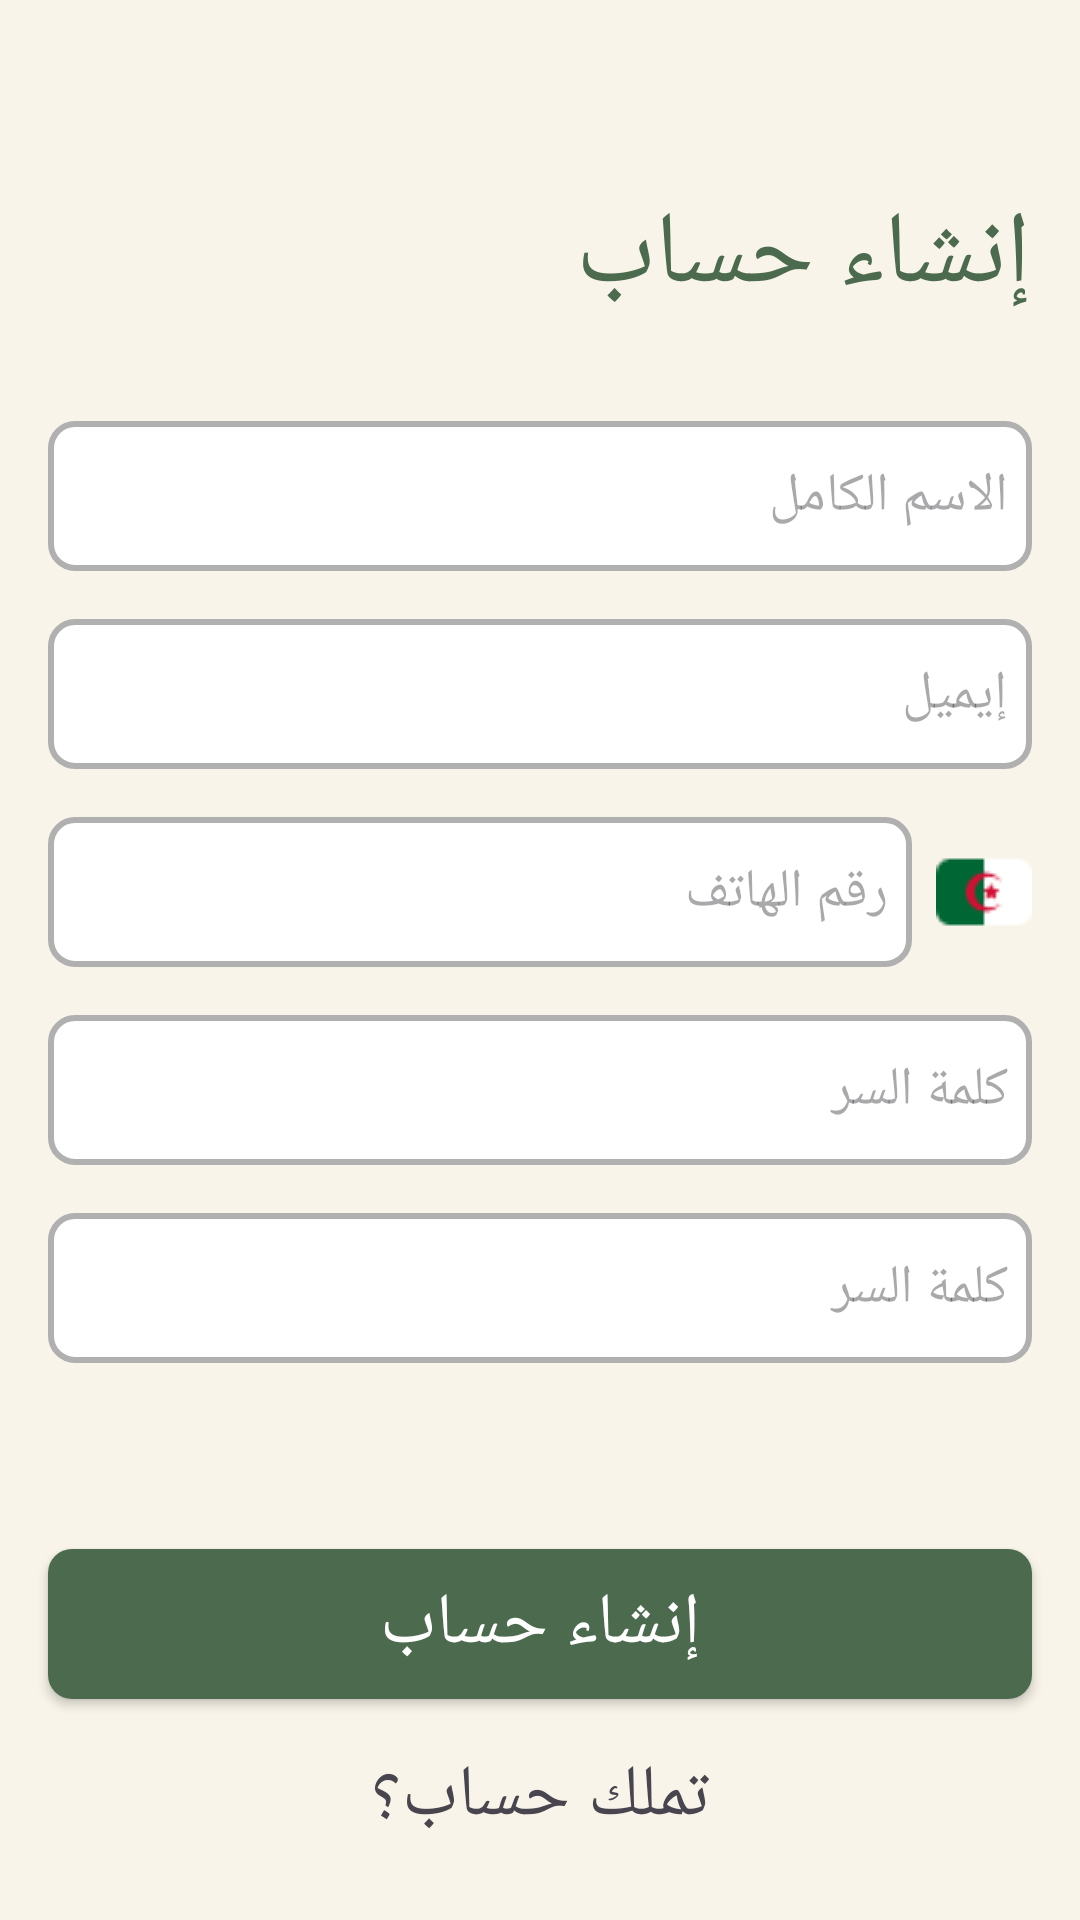

Named icons in this screenshot (1080 × 1920) and their centers, point (x, y):
algeria: point (968, 892)
